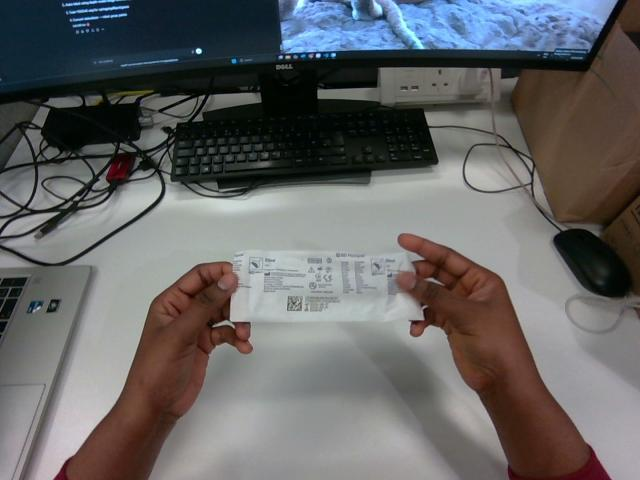syringe: (230, 250, 422, 321)
